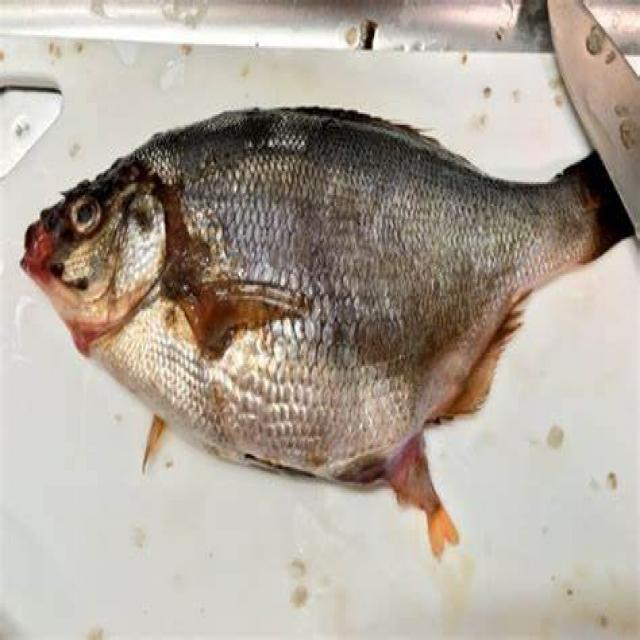EUS Disease: (23, 103, 640, 546)
